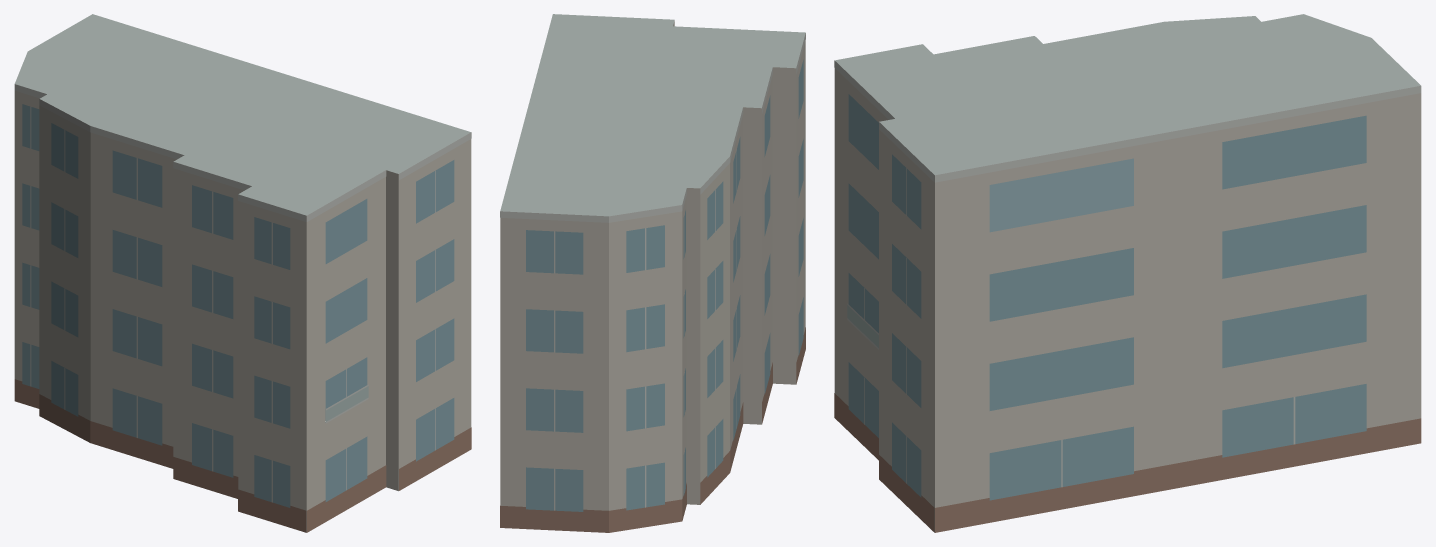
The model's file is survey-upis-32751887.glb.
3 views of the same model, side by side, from view 1: azimuth 30°, elevation 25°; view 2: azimuth 150°, elevation 25°; view 3: azimuth 270°, elevation 25° (orthographic). The views are drawn at different scales.
Visible parts, largest first — view 1: survey-upis-32751887.tmp; view 2: survey-upis-32751887.tmp; view 3: survey-upis-32751887.tmp.
Part boxes in pixels (x1,y1,x2,y2): survey-upis-32751887.tmp: (14,14,471,532); survey-upis-32751887.tmp: (500,14,805,532); survey-upis-32751887.tmp: (834,14,1421,532).
Size of the model in its own units: 11.52 by 11.9 by 17.71.
